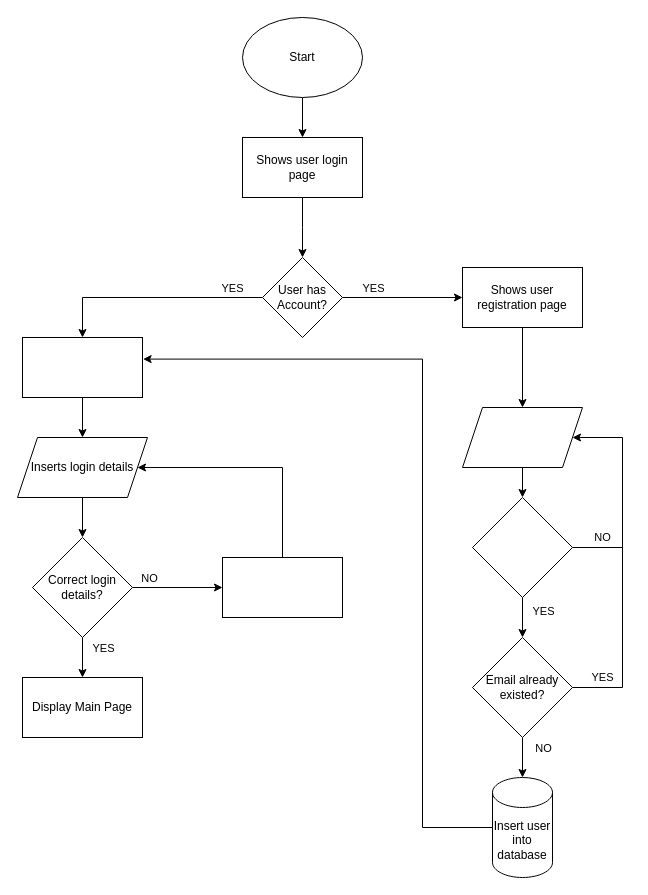
Image size: 648x895. Some labels were removed from this diagram. Here are the shapes that lost their labels. From the top down, the box of each, then its label:
(22, 336, 142, 398): Prompts user login
(462, 406, 582, 468): Inserts account details and passoword
(472, 496, 572, 598): Valid account details?
(222, 556, 342, 618): Display login fail message
